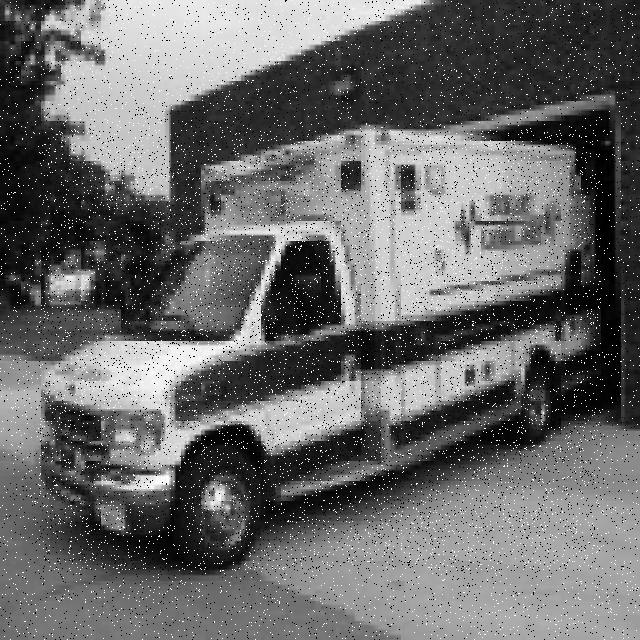Ambulance: (39, 130, 602, 571)
